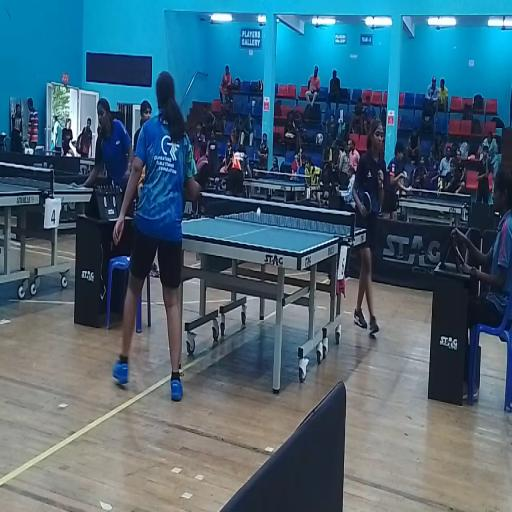ball: (256, 207, 260, 218)
